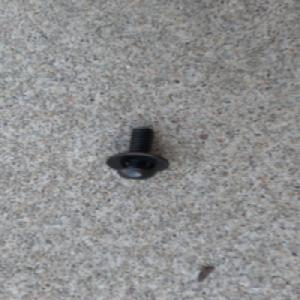BoltWasher: (103, 123, 170, 180)
